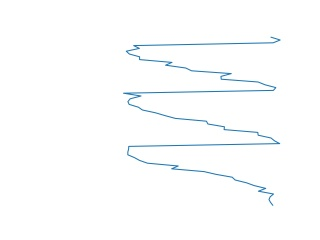distributaryMouthBar: (120, 31, 281, 209)
